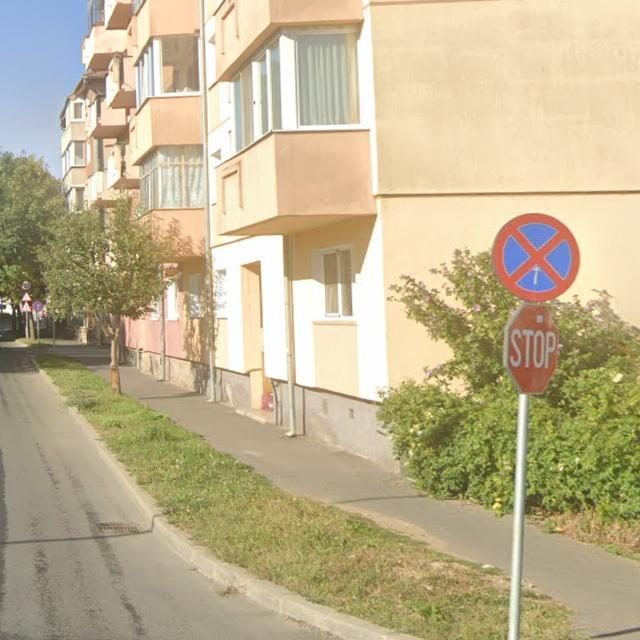forb_waiting: (491, 210, 582, 301)
prio_stop: (502, 299, 561, 396)
